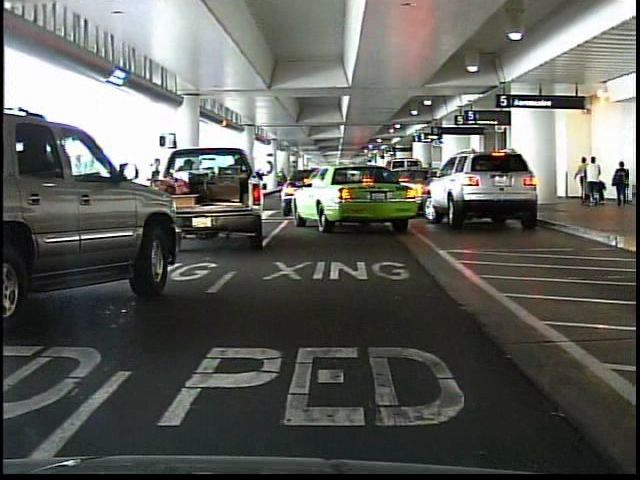person: (142, 154, 169, 220), (609, 159, 634, 208), (585, 153, 604, 209), (574, 155, 588, 205)
